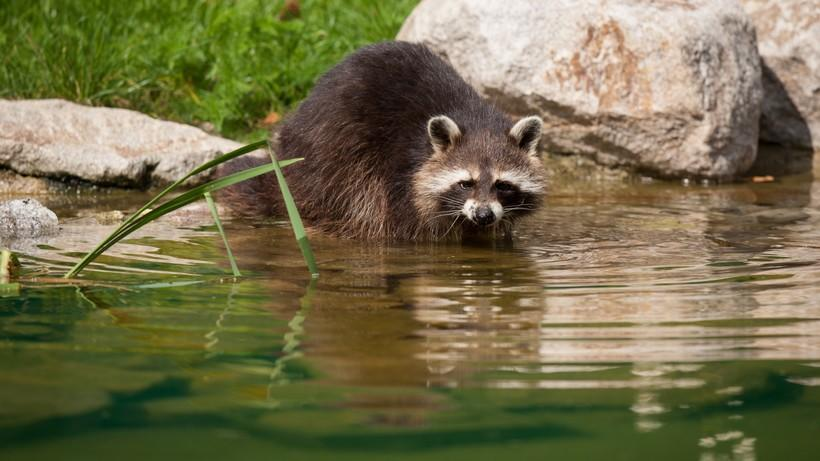raccoon: (227, 38, 561, 279)
